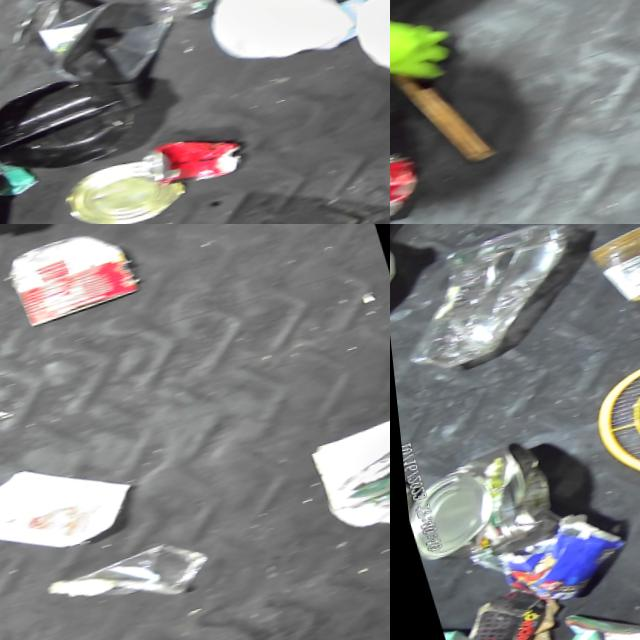can: (396, 438, 557, 576), (0, 224, 148, 337), (129, 128, 241, 200), (390, 148, 422, 224)
milk_jug: (188, 0, 358, 94), (331, 0, 390, 102)
plastic_bottle: (390, 224, 596, 382)
